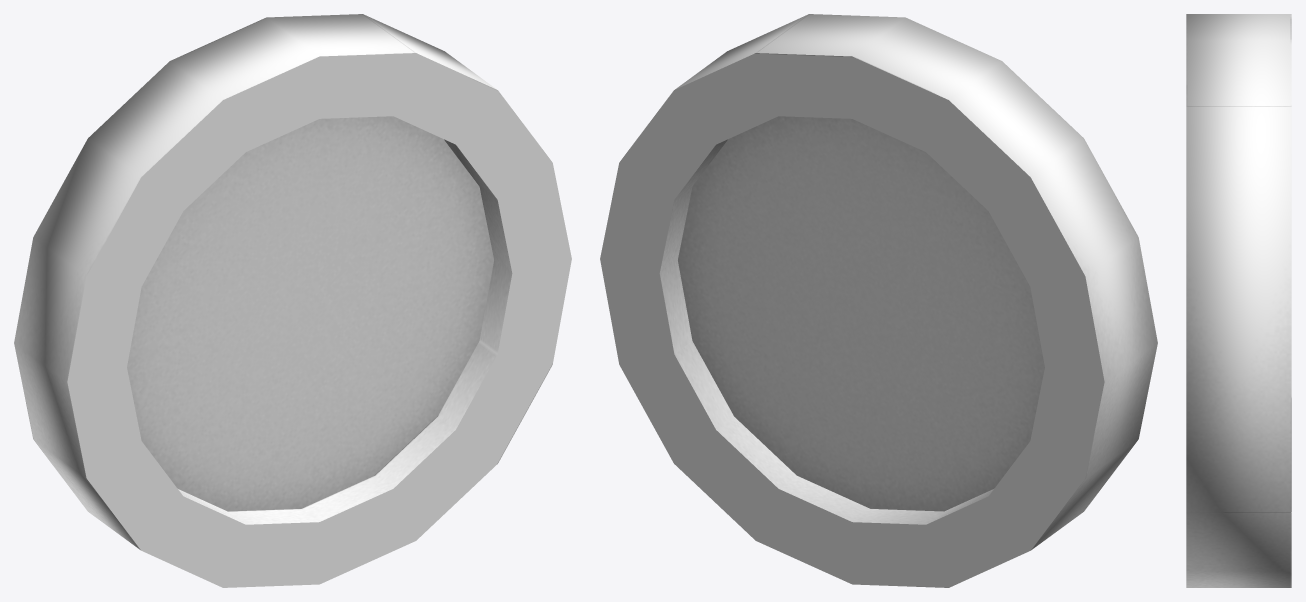
Rendered from CoinPickup.fbx.
3 renders of one model, left to right at view 1: azimuth 30°, elevation 25°; view 2: azimuth 150°, elevation 25°; view 3: azimuth 270°, elevation 25°, orthographic.
Parts seen in each view (by area): view 1: CoinPickup; view 2: CoinPickup; view 3: CoinPickup.
Part boxes in pixels (x1,y1,x2,y2): CoinPickup: (14,14,571,587); CoinPickup: (600,14,1157,587); CoinPickup: (1186,14,1291,587).
Size of the model in its own units: 200 by 200 by 36.61.
Materials: 1 (1 with a texture image).
